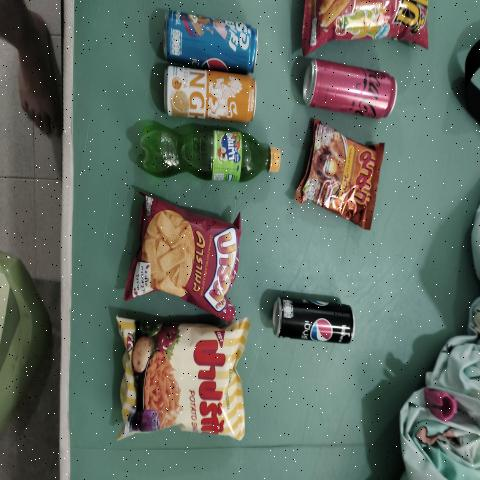coke_red: (295, 56, 394, 125)
fanta_green: (132, 126, 278, 185)
mama: (302, 125, 376, 223)
paprika: (126, 325, 237, 432)
party_red: (139, 215, 233, 308)
pepsi_black: (268, 289, 354, 346)
pepsi_blue: (160, 6, 260, 73)
singha_yellow: (159, 70, 259, 125)
